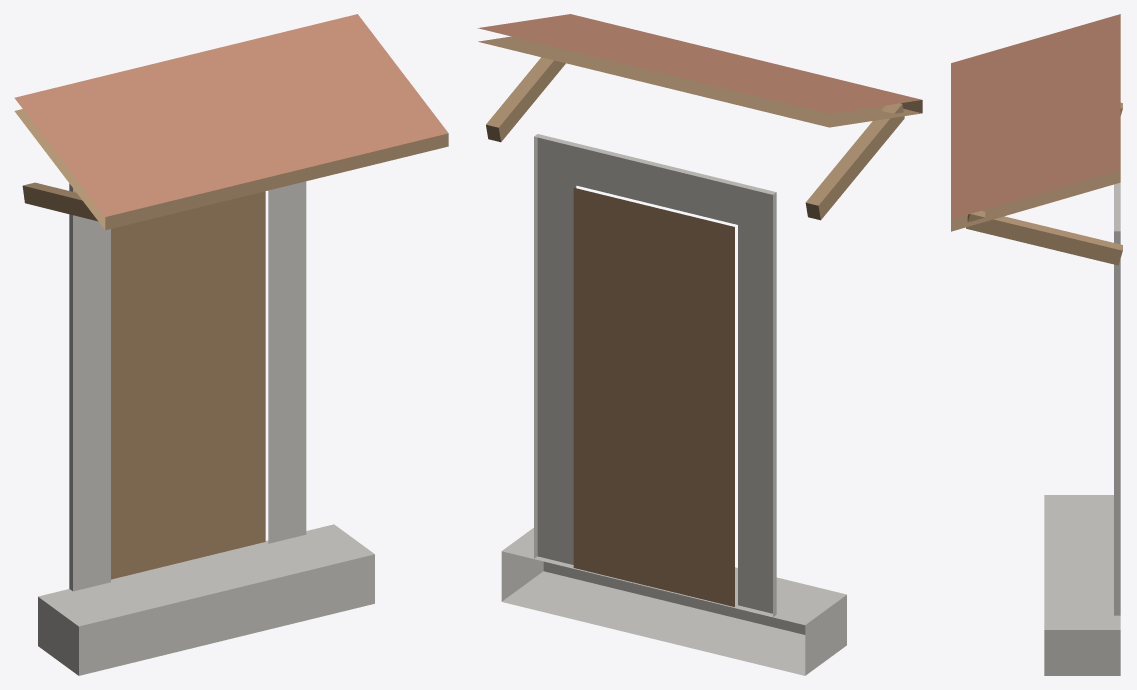
Rendered from door.glb.
3 renders of one model, left to right at view 1: azimuth 30°, elevation 25°; view 2: azimuth 150°, elevation 25°; view 3: azimuth 270°, elevation 25°, orthographic. The views are drawn at different scales.
Visible parts, largest first — view 1: door; view 2: door; view 3: door.
Boxes of the visible parts, x1,y1,x2,y2 form: door: (14,14,448,675); door: (477,14,922,675); door: (951,14,1122,675).
Size of the model in its own units: 2.18 by 3.36 by 1.01.
